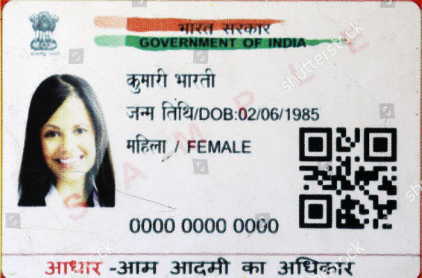aadhaar: (2, 1, 420, 277)
